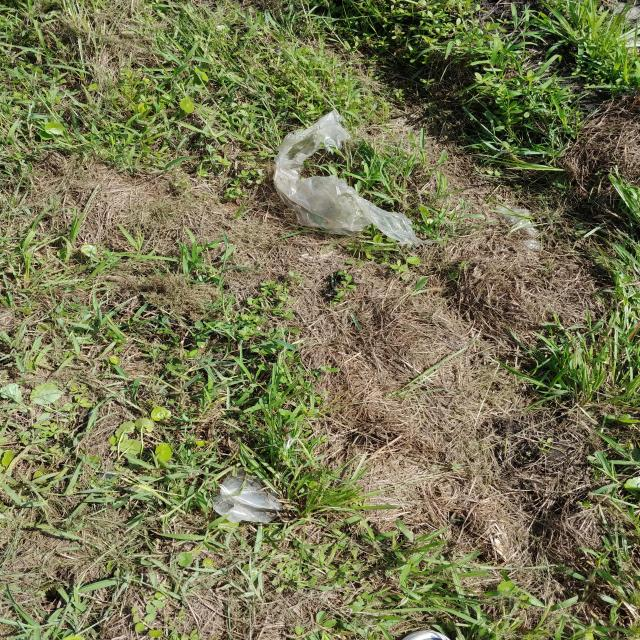litter: (269, 108, 423, 252)
